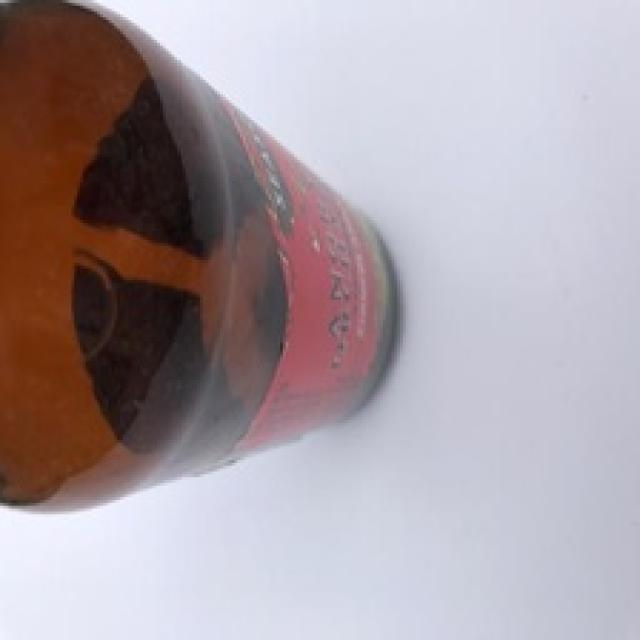Glass: (0, 0, 405, 515)
